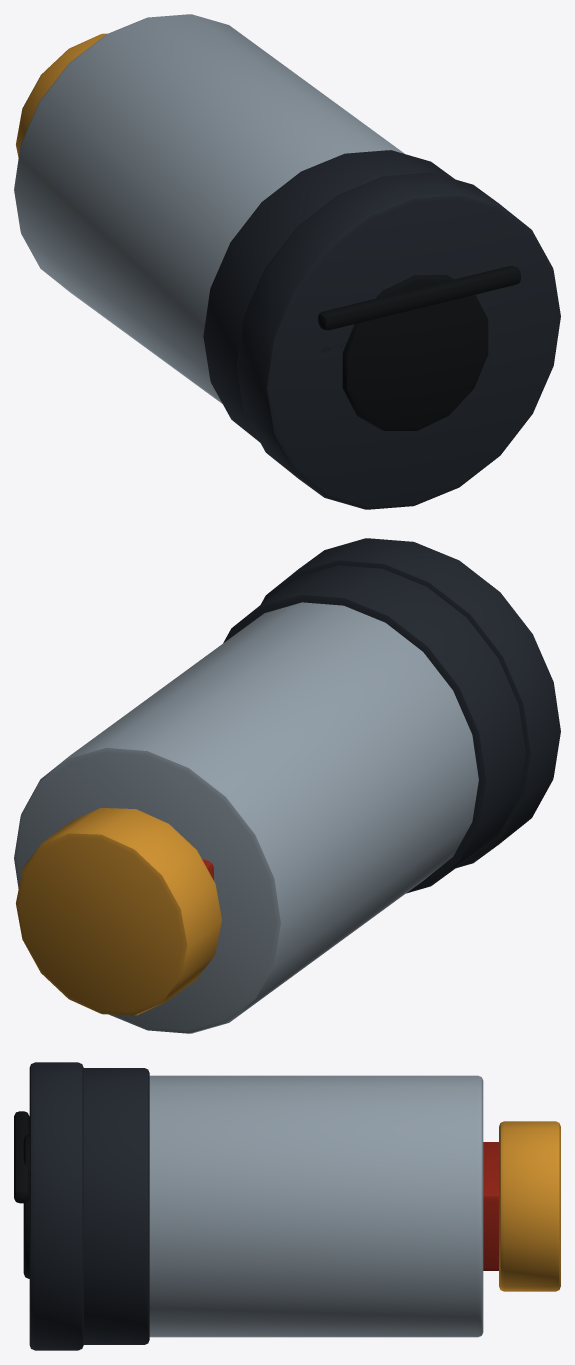
File: CannonB2.obj
3 renders of one model, top to bottom at view 1: azimuth 30°, elevation 25°; view 2: azimuth 150°, elevation 25°; view 3: azimuth 270°, elevation 25°, orthographic. The views are drawn at different scales.
Parts seen in each view (by area): view 1: CannonB2; view 2: CannonB2; view 3: CannonB2.
Part boxes in pixels (<box>): CannonB2: <box>14,14,560,509</box>; CannonB2: <box>14,538,560,1033</box>; CannonB2: <box>14,1062,560,1350</box>.
Size of the model in its own units: 0.748 by 0.748 by 1.41.
